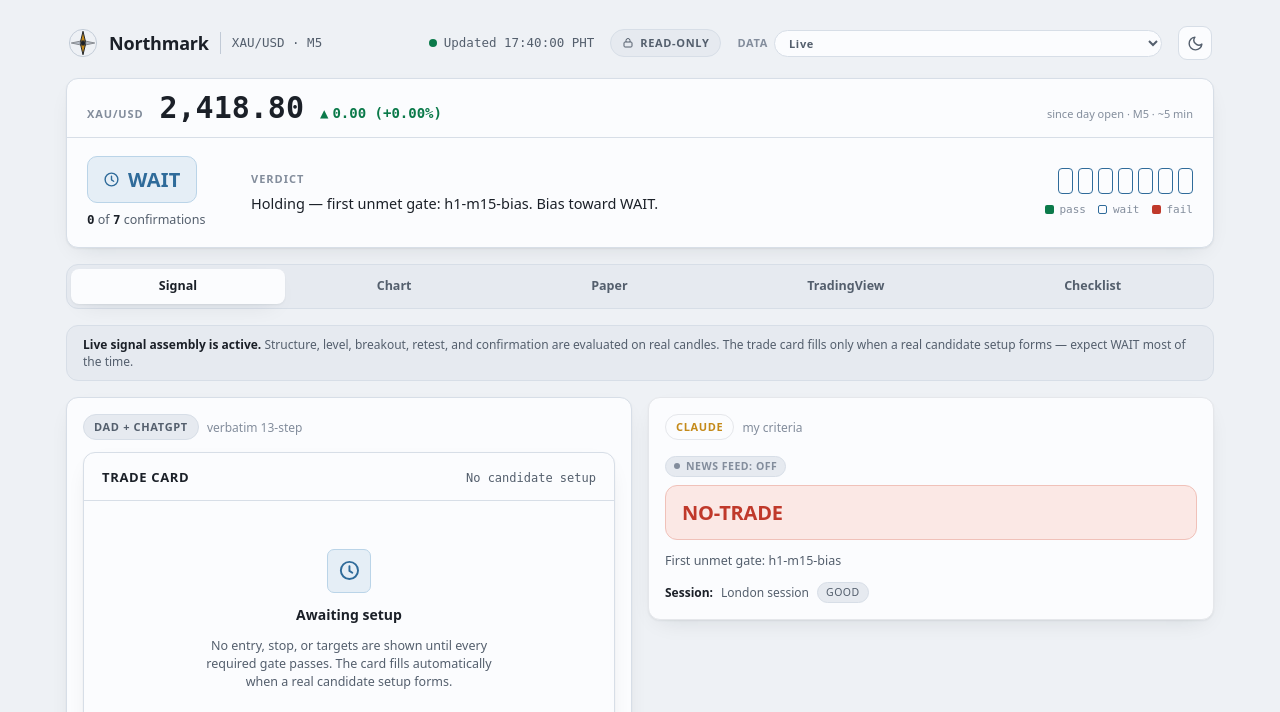
Test case: switching back to Live from a demo preset removes the banner
The image size is (1280, 712).
Select "Demo · WAIT — H1 bias unclear" in the dropdown named "Data source" at (968, 43), box [774,30,1162,56]
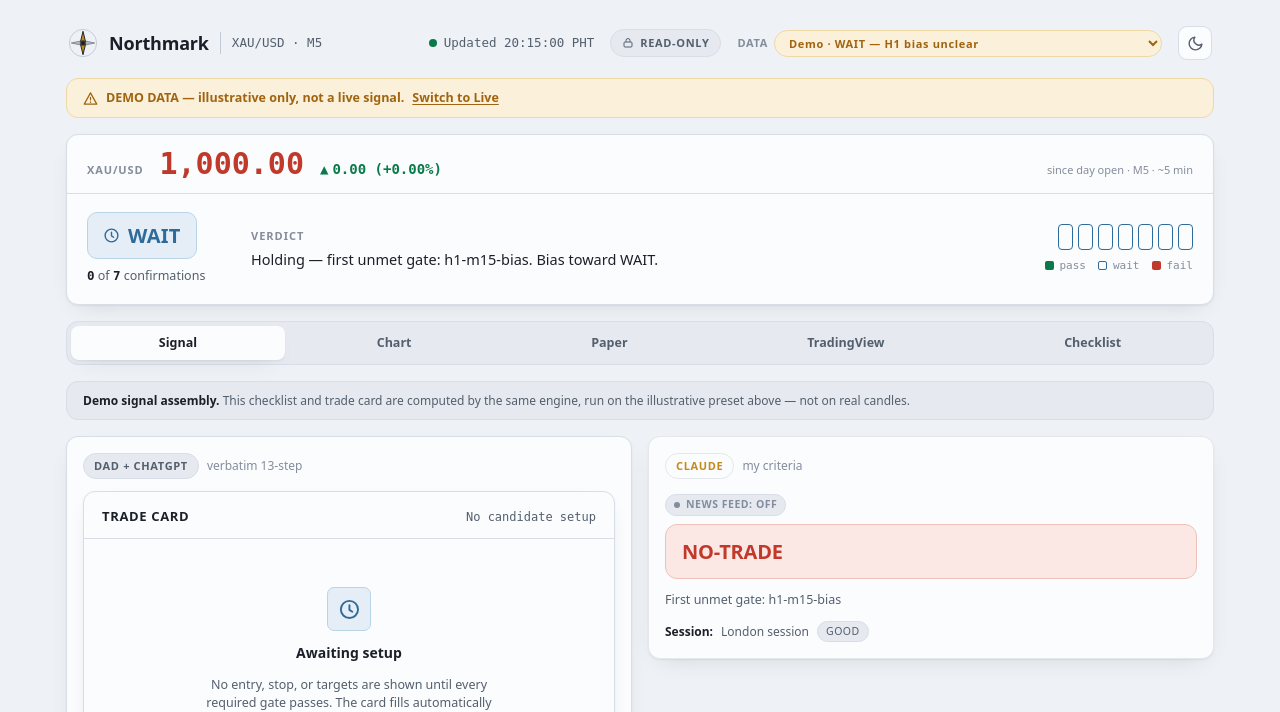
Expected: the text "DEMO DATA — illustrative only, not a live signal. Switch to Live" is shown, [66,78,1214,118]
Select "Live" in the dropdown named "Data source" at (968, 43), box [774,30,1162,56]
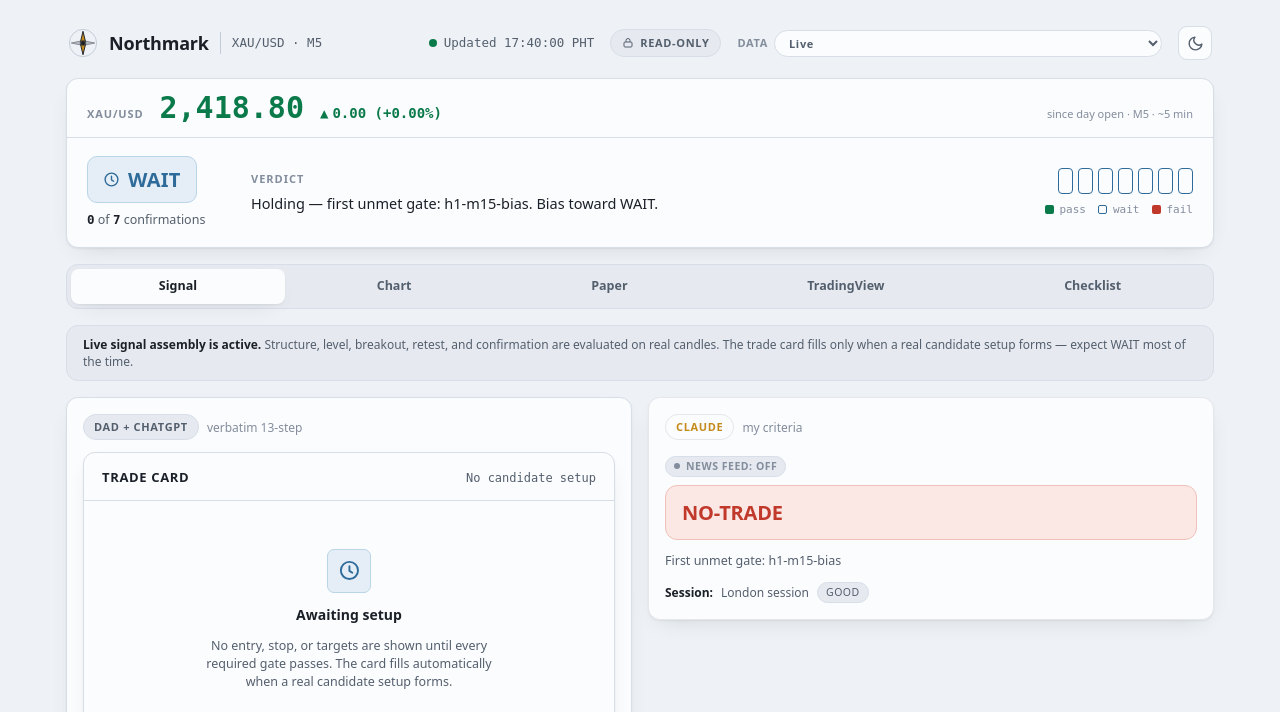
Expected: the text "DEMO DATA" is gone
